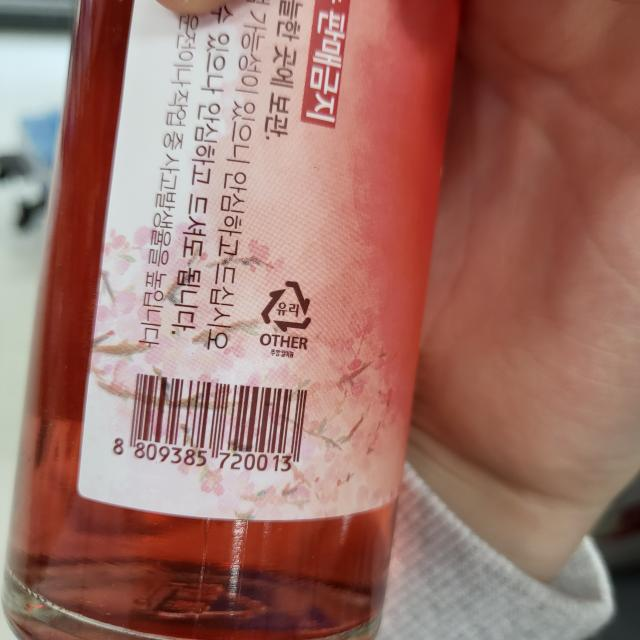Glass: (262, 280, 316, 336)
